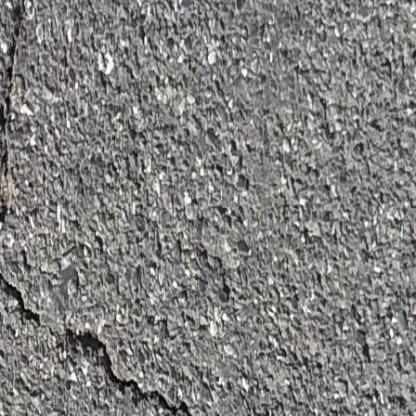Cracks: (0, 279, 210, 416), (0, 0, 24, 281)
